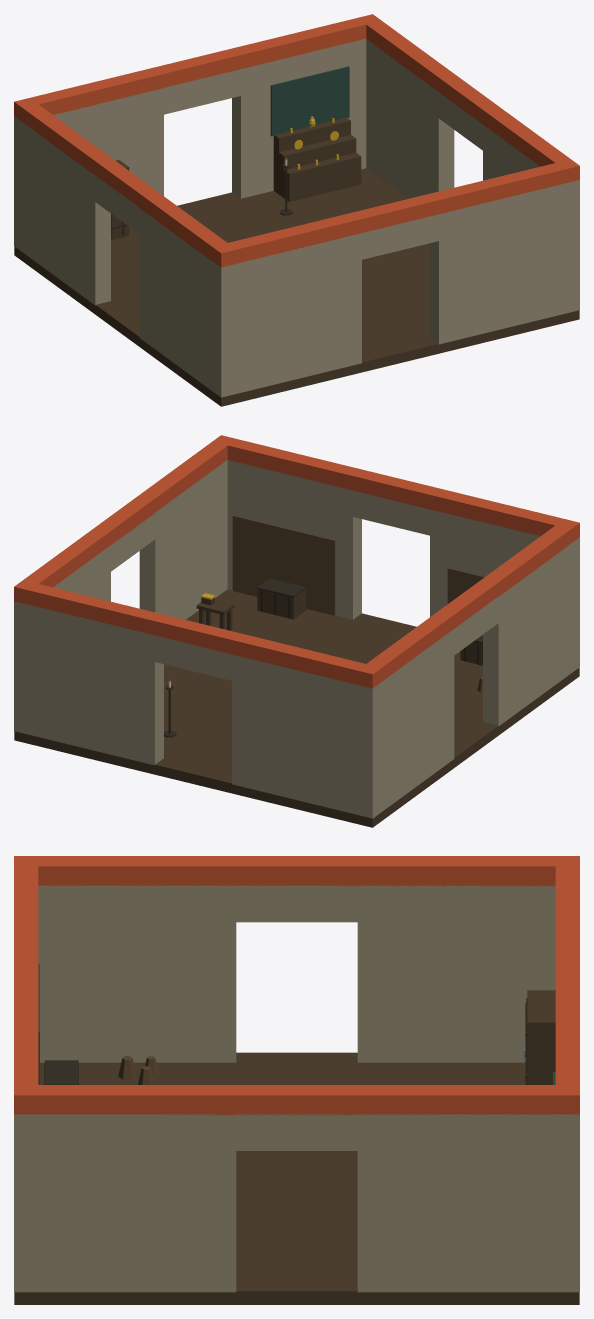
Rendered from LateJewelHouse.fbx.
The picture shows the model from 3 angles, top to bottom: view 1: azimuth 30°, elevation 25°; view 2: azimuth 150°, elevation 25°; view 3: azimuth 270°, elevation 25°; orthographic projection. The views are drawn at different scales.
Parts seen in each view (by area): view 1: LateJewelHouse; view 2: LateJewelHouse; view 3: LateJewelHouse.
Part boxes in pixels (<box>): LateJewelHouse: <box>14,14,579,406</box>; LateJewelHouse: <box>14,435,579,827</box>; LateJewelHouse: <box>14,856,579,1304</box>.
Size of the model in its own units: 1202 by 492 by 1202.
Materials: 9 (9 with a texture image).
